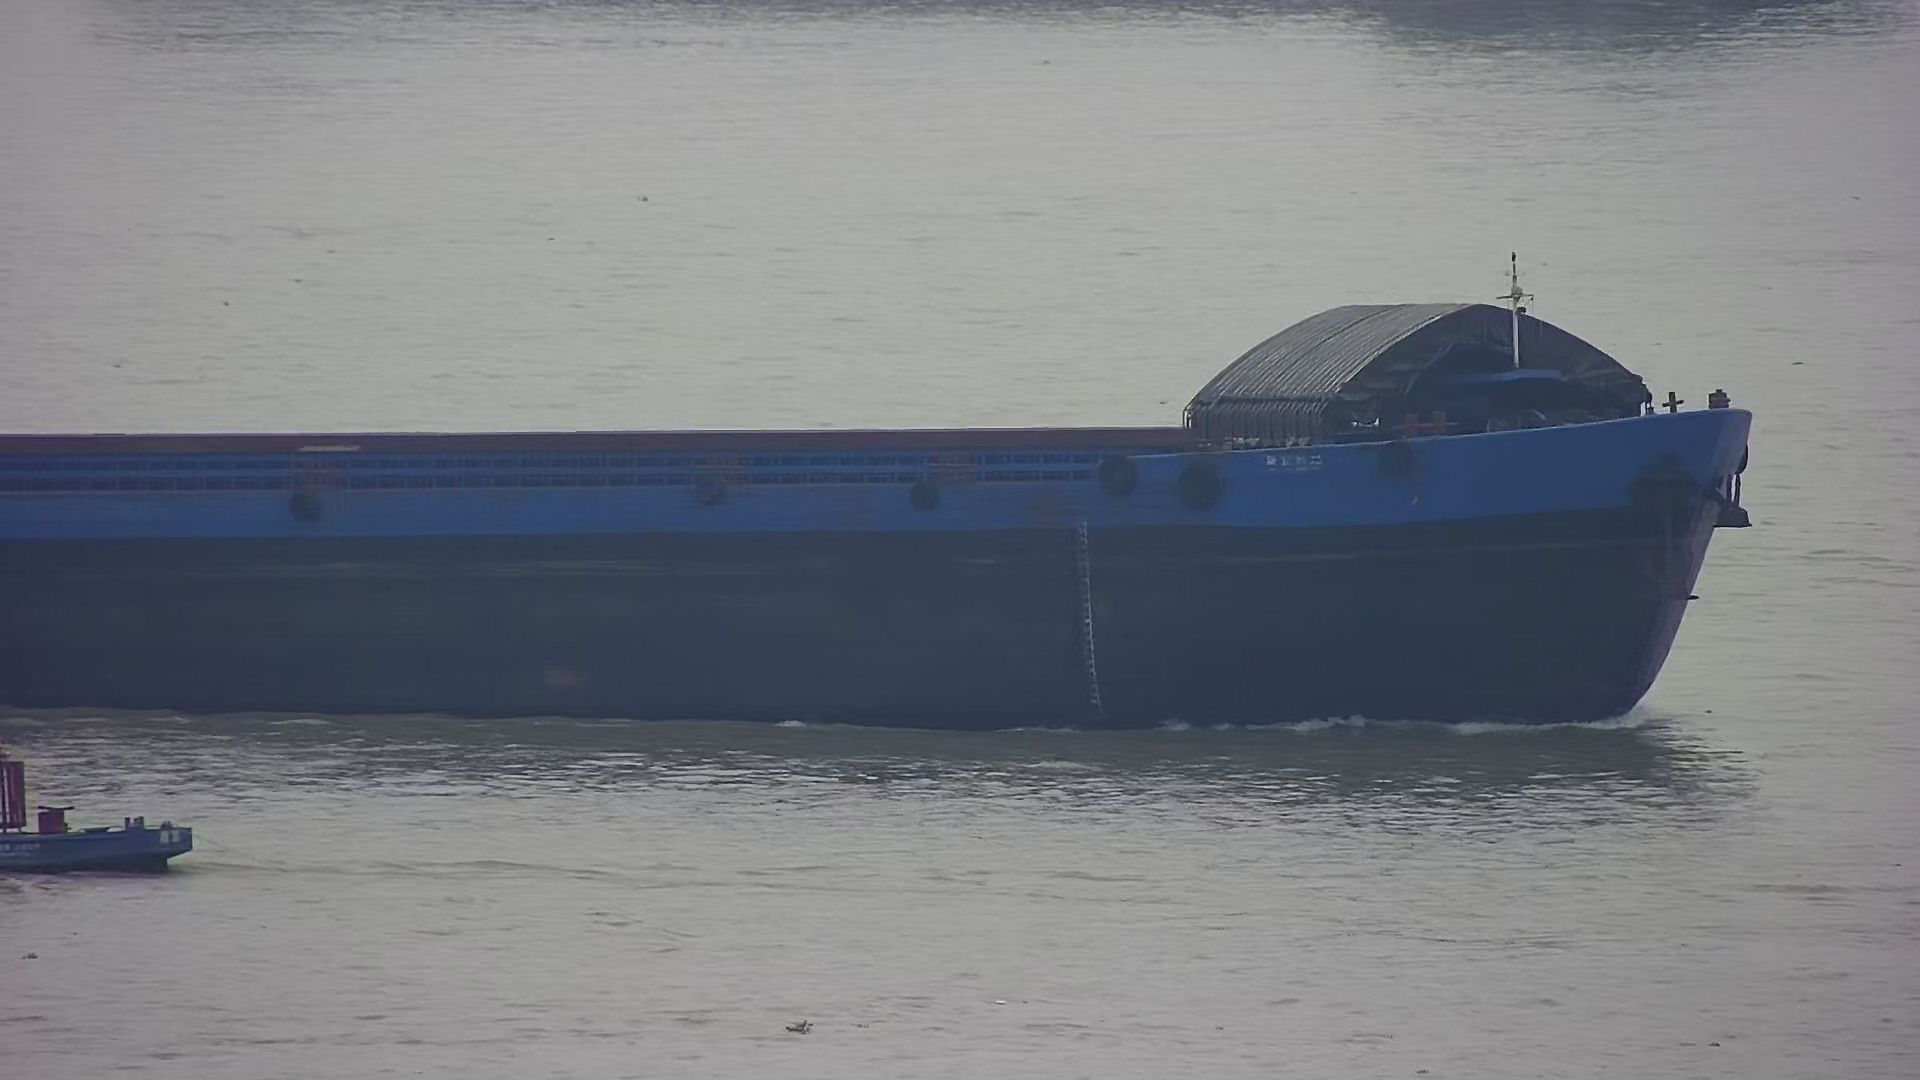boat: (1, 754, 194, 882)
ship: (1, 258, 1753, 731)
